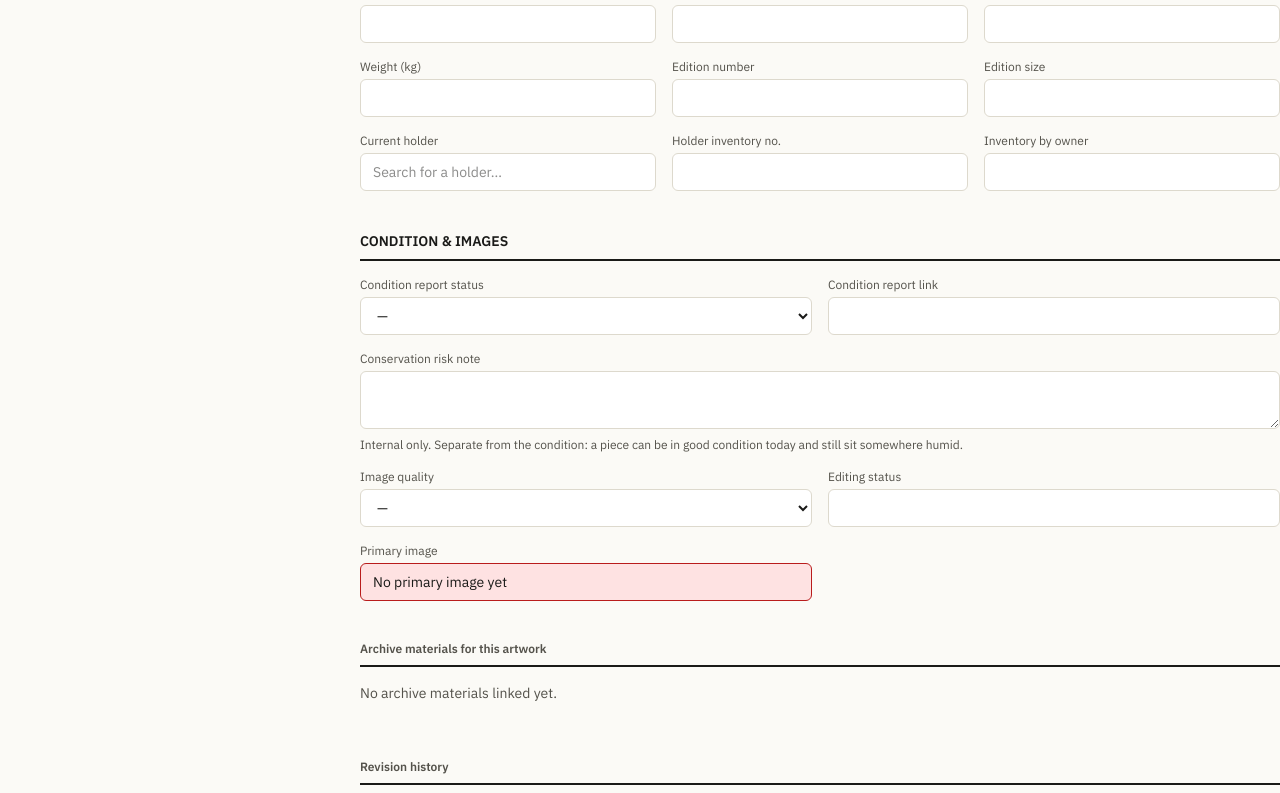
Test case: ArtworkCurationPage › draft mode (proposals.submit) › saves the fields section through saveDraft instead of the direct endpoint
(page scrolled)
In the text box with test id "risk-note": point(820, 400) x1=360 y1=371 x2=1279 y2=429, type "Humid storage."
(page scrolled)
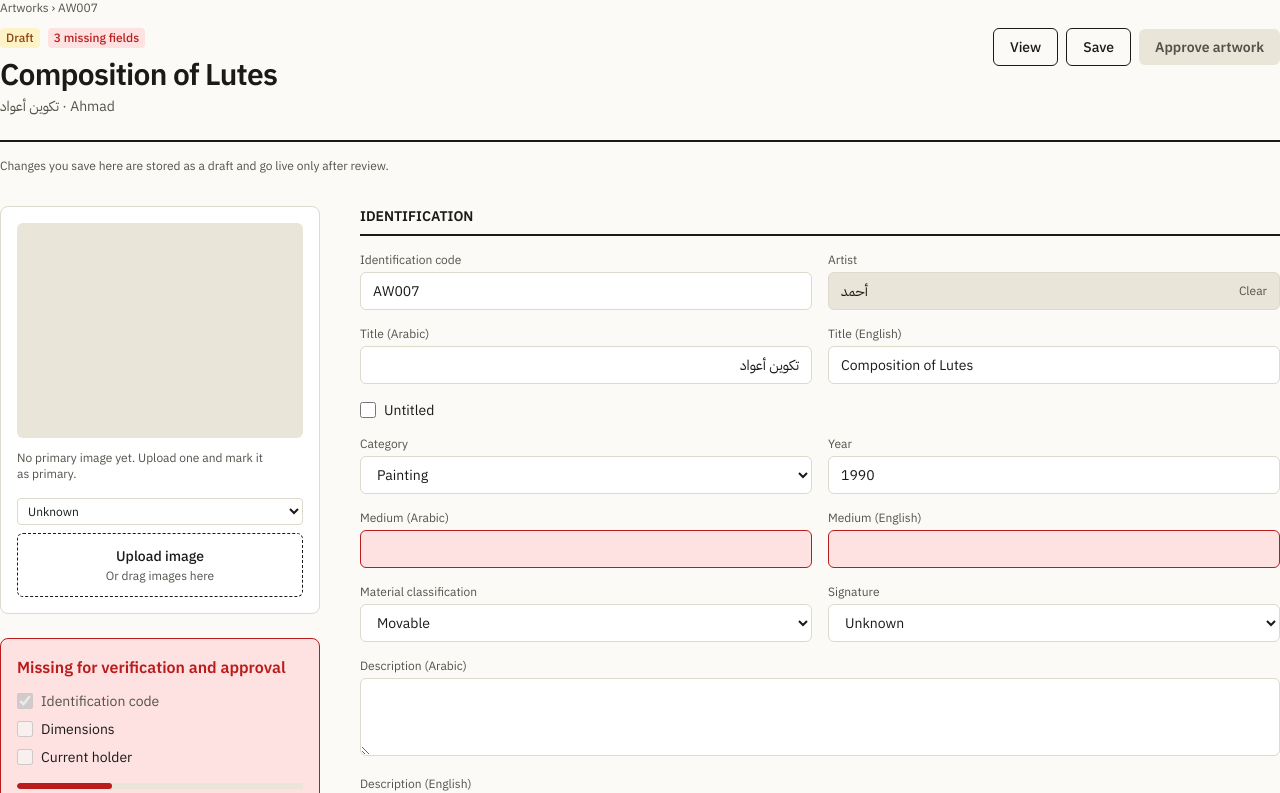
Click the button with test id "save-button": point(1099, 47) x1=1066 y1=28 x2=1131 y2=66
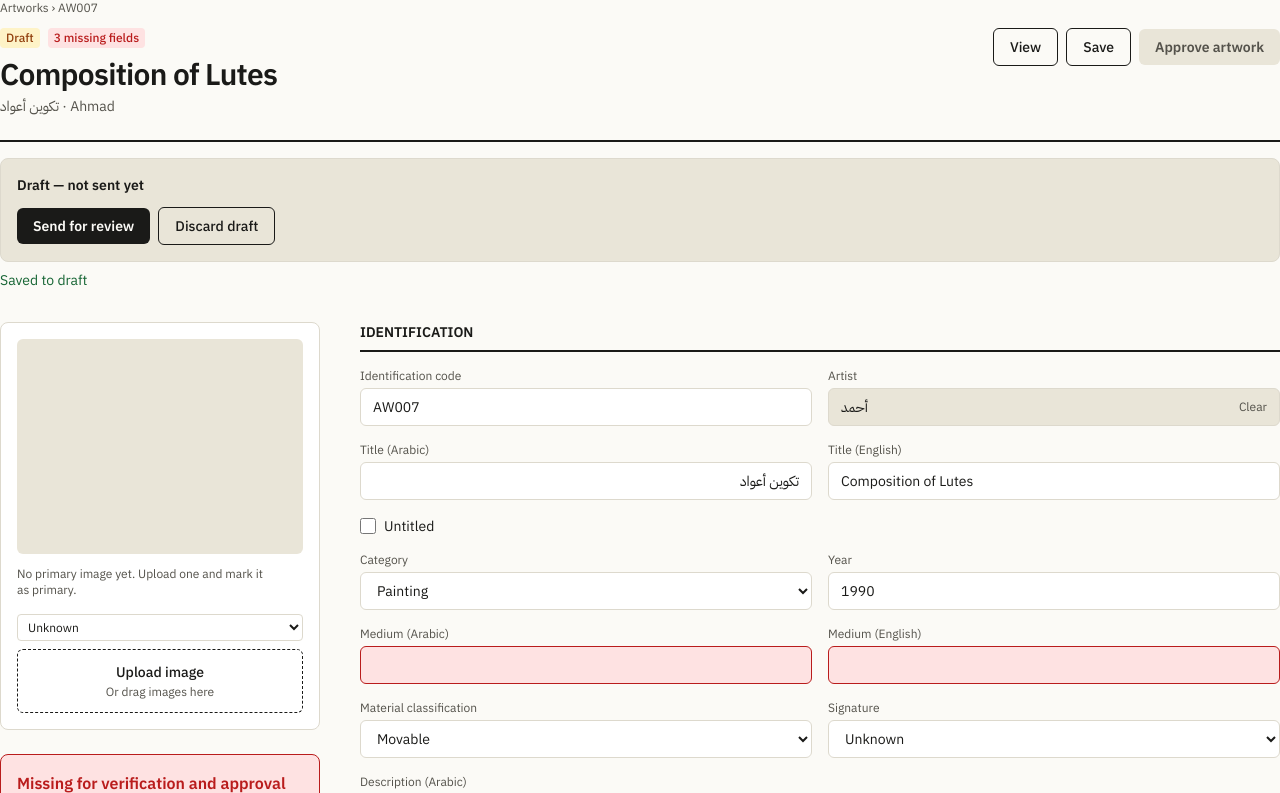
Check: the text with test id "saved-feedback" reads "Saved to draft", box x1=0 y1=271 x2=88 y2=289
